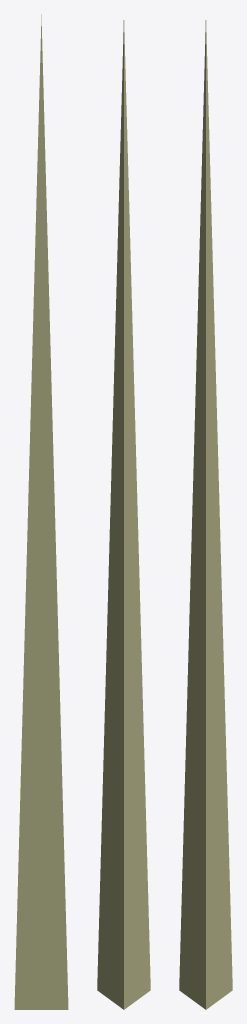
The model's file is reed.gltf.
The picture shows the model from 3 angles, left to right: view 1: azimuth 90°, elevation 25°; view 2: azimuth 150°, elevation 25°; view 3: azimuth 270°, elevation 25°; orthographic projection.
Parts seen in each view (by area): view 1: reed; view 2: reed; view 3: reed.
Boxes of the visible parts, x1,y1,x2,y2 form: reed: (14, 14, 68, 1009); reed: (97, 20, 150, 1009); reed: (179, 20, 232, 1009).
Size of the model in its own units: 0.06 by 1.4 by 0.0693.
